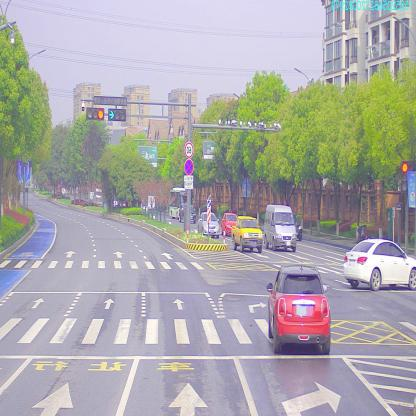traffic-light: (85, 108, 103, 119), (108, 110, 127, 120)
